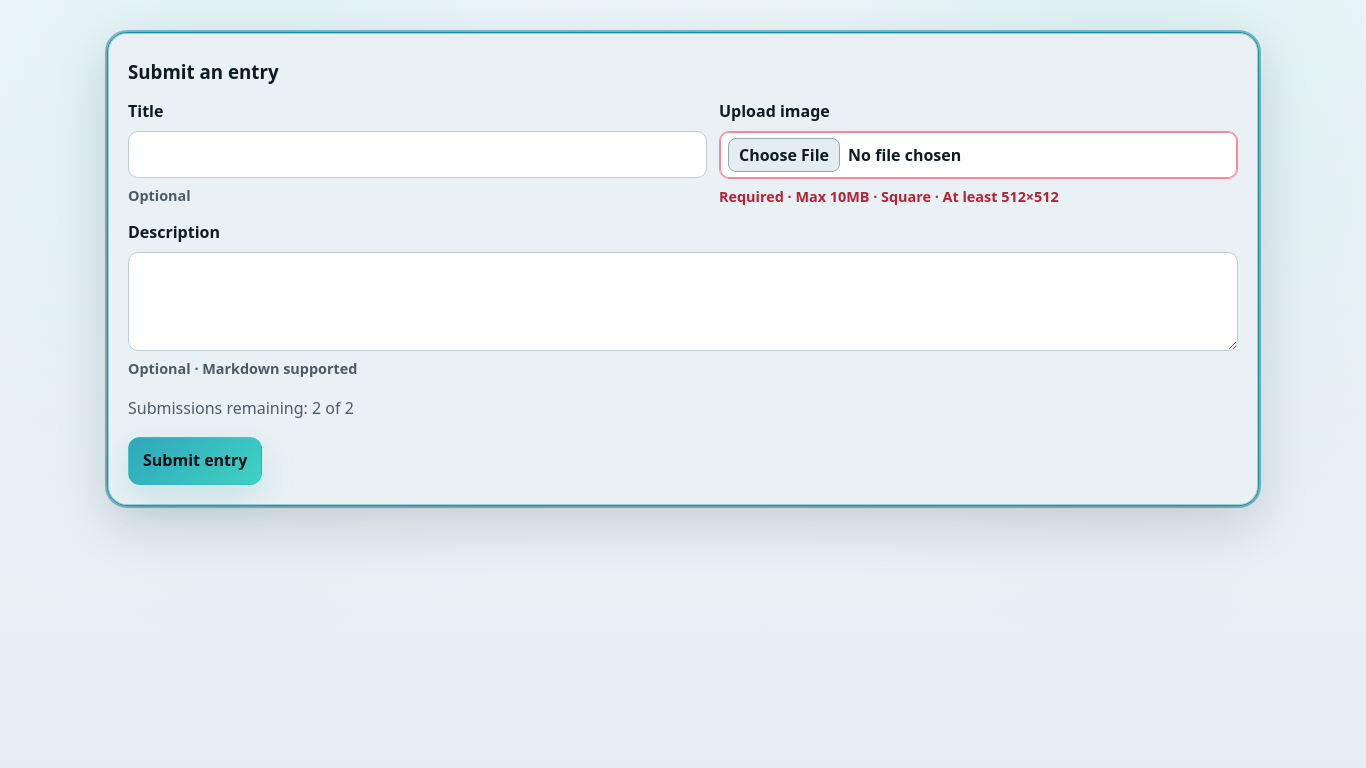
Test case: SubmissionSection › keeps upload requirements helper text and shows invalid image styling when criteria validation fails
The width and height of the screenshot is (1366, 768).
Click the button "Submit entry" at (195,461), box [128,437,262,485]
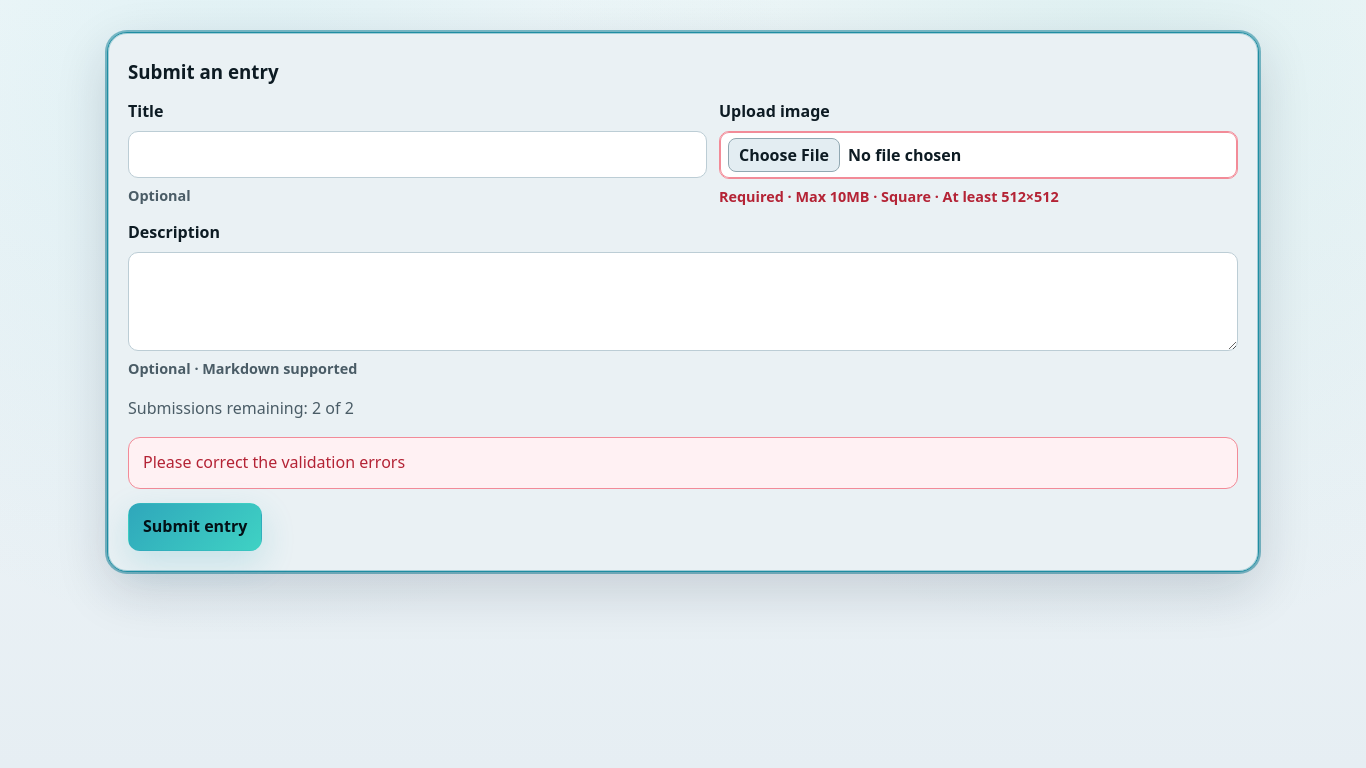
Expected: the text "Required · Max 10MB · Square · At least 512×512" is shown, [719,187,1059,206]
Expected: the text "Please correct the validation errors" is shown, [128,437,1238,489]
